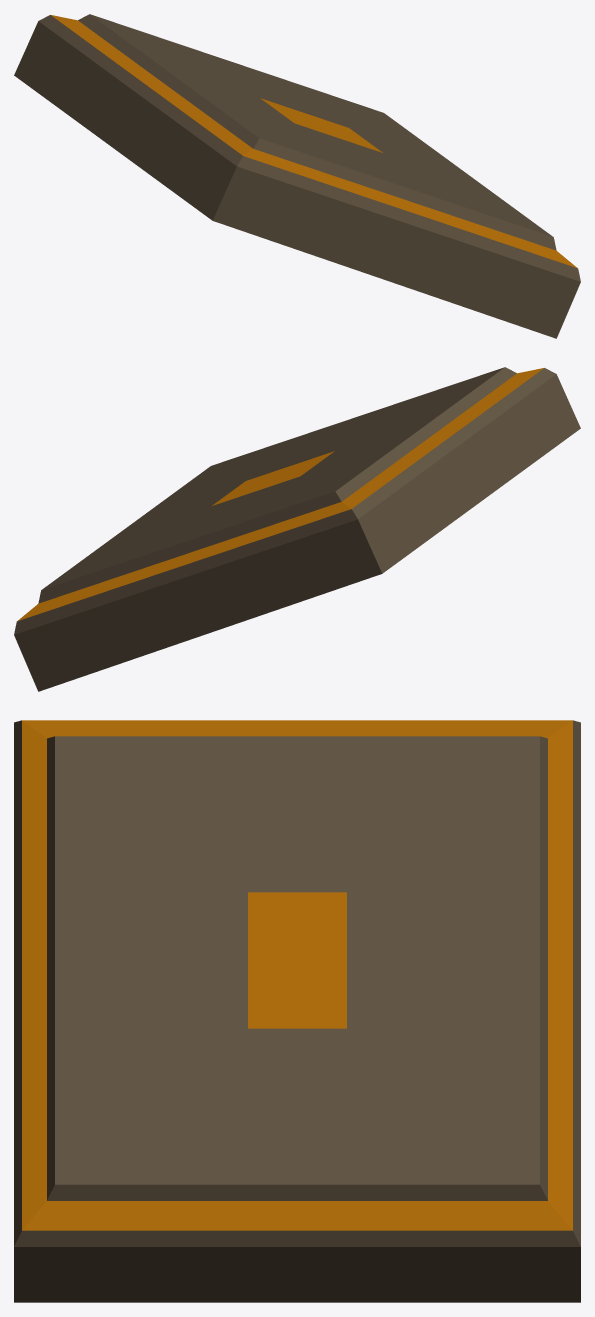
File: ButtonA_Yellow.glb
3 renders of one model, top to bottom at view 1: azimuth 30°, elevation 25°; view 2: azimuth 150°, elevation 25°; view 3: azimuth 270°, elevation 25°, orthographic. The views are drawn at different scales.
Parts seen in each view (by area): view 1: ButtonA; view 2: ButtonA; view 3: ButtonA.
Part boxes in pixels (<box>): ButtonA: <box>14,14,580,338</box>; ButtonA: <box>14,367,580,691</box>; ButtonA: <box>14,720,580,1302</box>.
Size of what is drawn, in the model's own units: 0.1875 by 0.1259 by 0.1751.
Materials: 2 (2 with a texture image).
